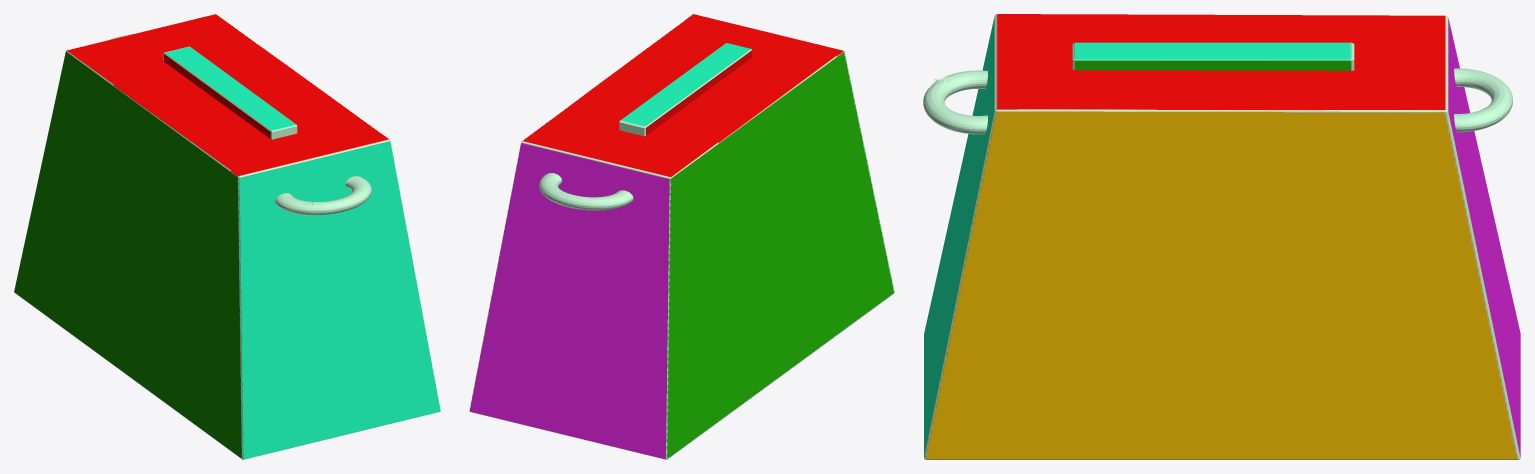
File: ammo.obj
3 renders of one model, left to right at view 1: azimuth 30°, elevation 25°; view 2: azimuth 150°, elevation 25°; view 3: azimuth 270°, elevation 25°, orthographic. The views are drawn at different scales.
Parts seen in each view (by area): view 1: Cube; view 2: Cube; view 3: Cube.
Part boxes in pixels (box(x1,y1,x2,y2)): Cube: box(14, 14, 440, 459); Cube: box(469, 14, 894, 459); Cube: box(923, 14, 1520, 459).
Size of the model in its own units: 0.3397 by 0.4354 by 0.6803.
